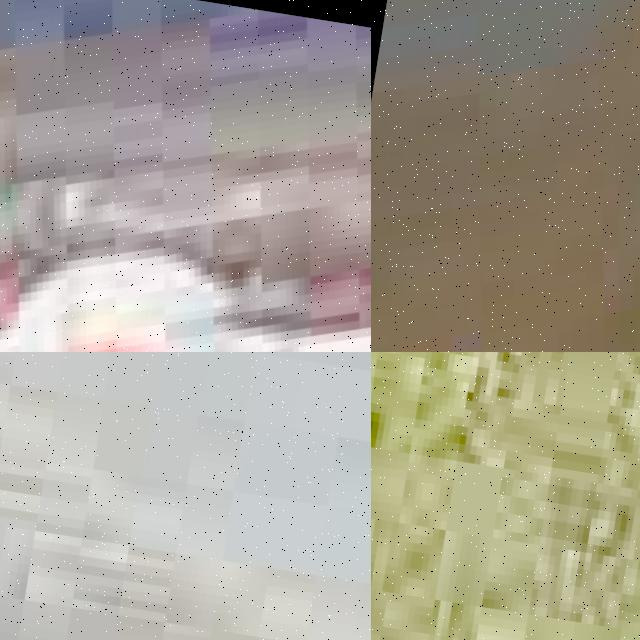0: (0, 0, 371, 352)
drone: (371, 0, 640, 352)
